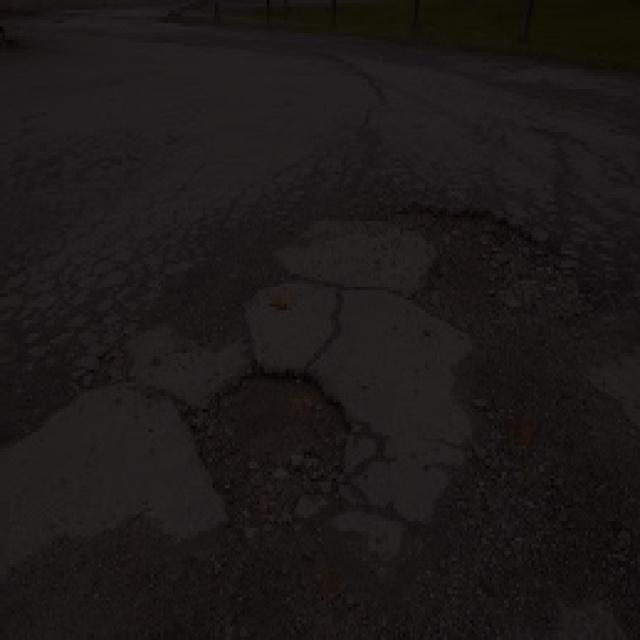Pothole: (168, 343, 367, 530), (388, 187, 588, 328)
